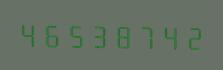eight: (109, 19, 131, 50)
five: (63, 19, 85, 49)
four: (155, 20, 177, 51), (17, 18, 39, 48)
seven: (132, 20, 154, 50)
six: (40, 18, 62, 49)
three: (86, 19, 108, 49)
two: (178, 21, 200, 51)
